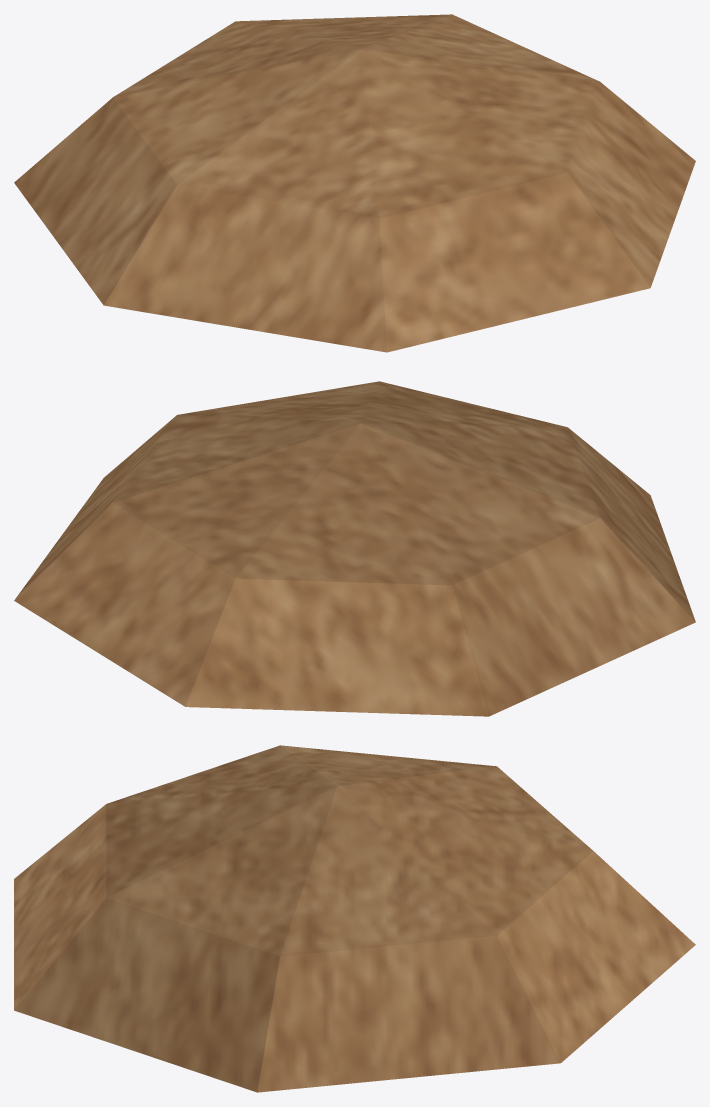
3 renders of one model, top to bottom at view 1: azimuth 30°, elevation 25°; view 2: azimuth 150°, elevation 25°; view 3: azimuth 270°, elevation 25°, orthographic. The views are drawn at different scales.
Parts seen in each view (by area): view 1: Sphere01; view 2: Sphere01; view 3: Sphere01.
Part boxes in pixels (bbox=[...]): Sphere01: bbox=[14, 14, 695, 352]; Sphere01: bbox=[14, 381, 695, 716]; Sphere01: bbox=[14, 745, 695, 1092].
Size of the model in its own units: 629 by 157 by 613.
1 material, 1 textured.
